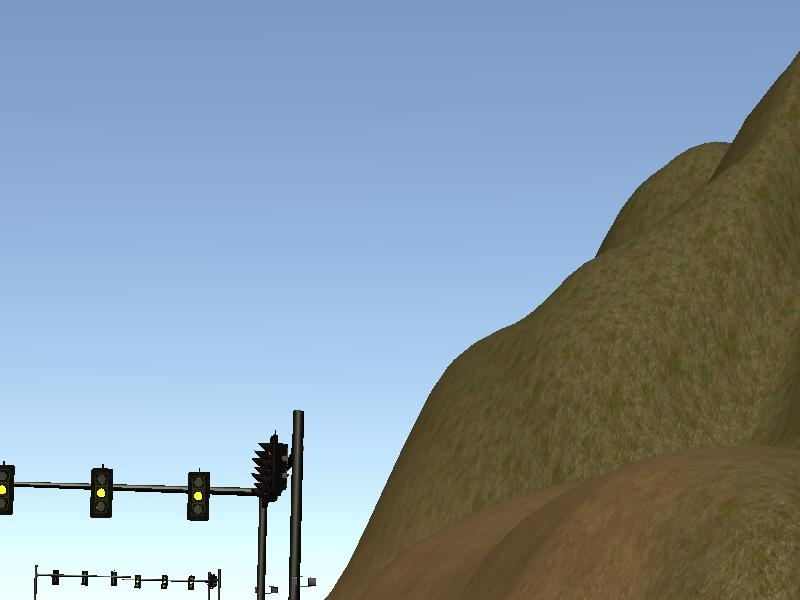YELLOW: (90, 466, 112, 518), (187, 470, 209, 522)
